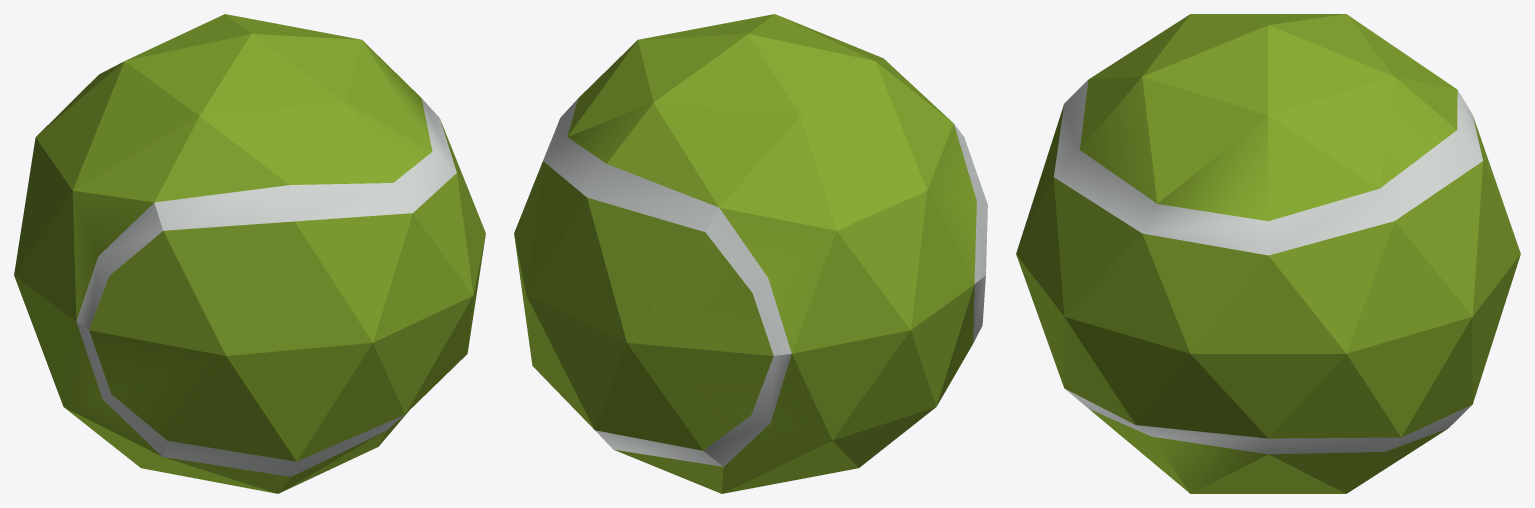
File: SM_Prop_Tennis_Ball_01.fbx
The picture shows the model from 3 angles, left to right: view 1: azimuth 30°, elevation 25°; view 2: azimuth 150°, elevation 25°; view 3: azimuth 270°, elevation 25°; orthographic projection. The views are drawn at different scales.
Visible parts, largest first — view 1: SM_Prop_Tennis_Ball_01; view 2: SM_Prop_Tennis_Ball_01; view 3: SM_Prop_Tennis_Ball_01.
Part boxes in pixels (x1,y1,x2,y2): SM_Prop_Tennis_Ball_01: [14, 14, 485, 493]; SM_Prop_Tennis_Ball_01: [514, 14, 987, 493]; SM_Prop_Tennis_Ball_01: [1016, 14, 1520, 493].
Size of the model in its own units: 12.19 by 12.9 by 12.9.
